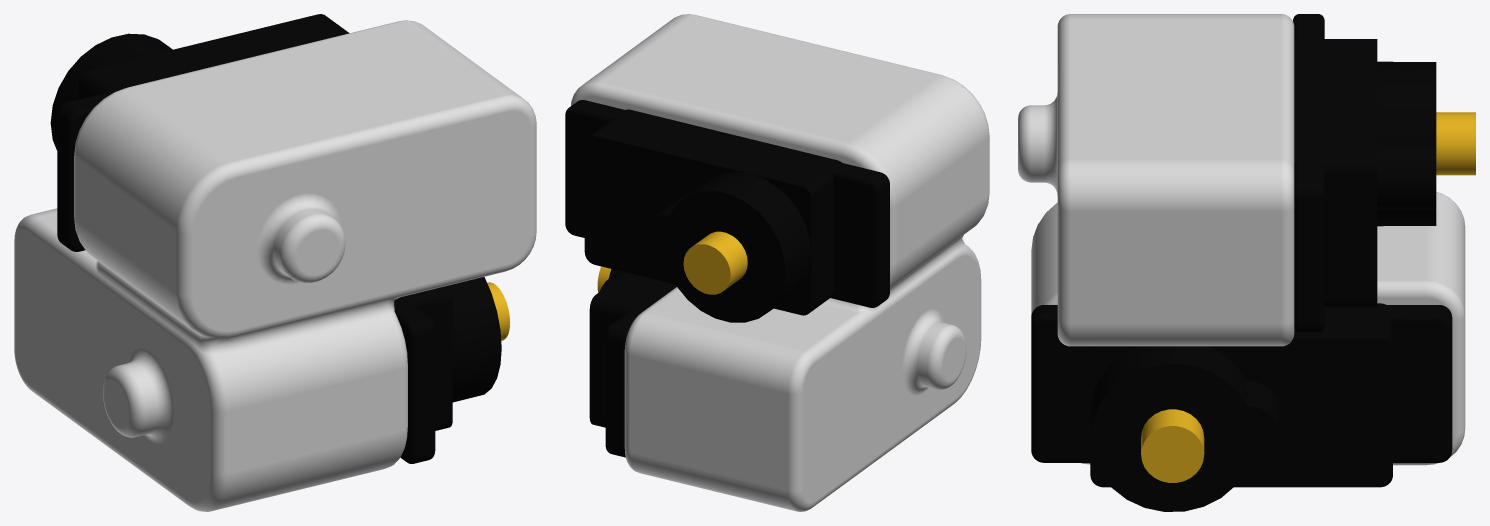
The model's file is MOTBOX.gltf.
3 renders of one model, left to right at view 1: azimuth 30°, elevation 25°; view 2: azimuth 150°, elevation 25°; view 3: azimuth 270°, elevation 25°, orthographic. The views are drawn at different scales.
Visible parts, largest first — view 1: Fillet010, Body001, Body; view 2: Fillet010, Body, Body001; view 3: Fillet010, Body001, Body.
Boxes of the visible parts, x1,y1,x2,y2 form: Fillet010: (14, 20, 536, 511); Body001: (394, 277, 510, 463); Body: (50, 14, 349, 251); Fillet010: (571, 14, 989, 511); Body: (565, 100, 889, 322); Body001: (589, 266, 676, 457); Fillet010: (1018, 14, 1465, 465); Body001: (1031, 303, 1452, 511); Body: (1293, 14, 1475, 332).
Bounding box in the file's own units: 0.0348 × 0.0307 × 0.0348.
